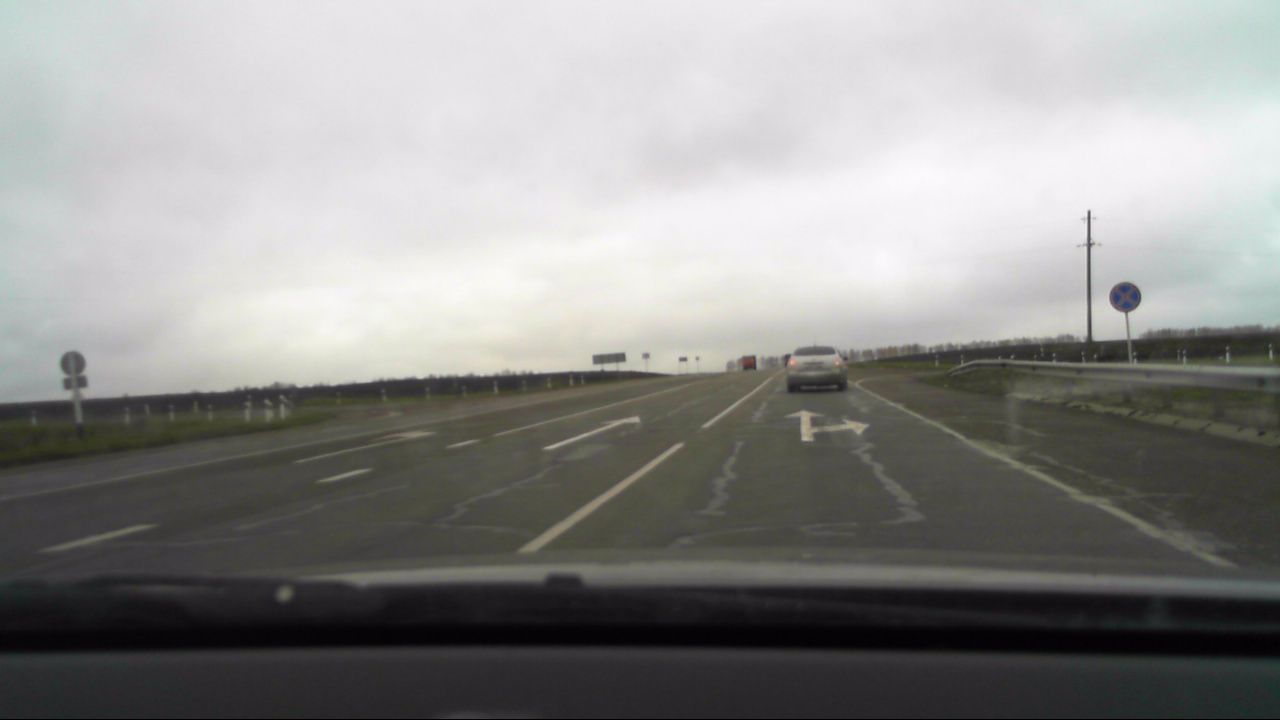No Parking: (1109, 279, 1142, 313)
